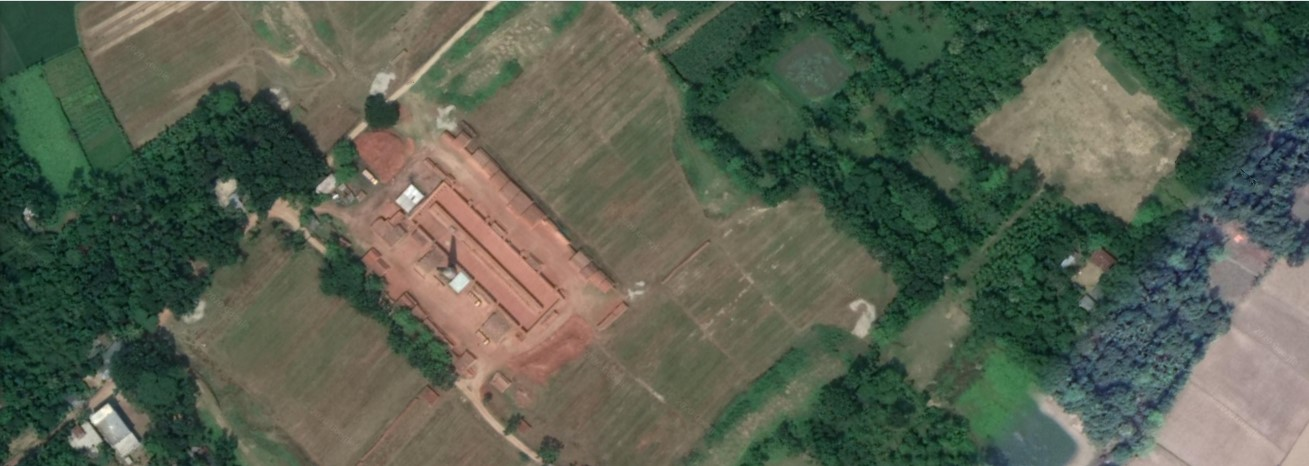kiln: (379, 217, 580, 318)
